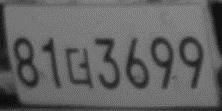1: (39, 37, 64, 88)
3: (93, 37, 120, 89)
6: (124, 36, 150, 89)
8: (11, 37, 39, 86)
9: (177, 35, 204, 89), (149, 35, 175, 89)
더: (63, 46, 95, 89)
